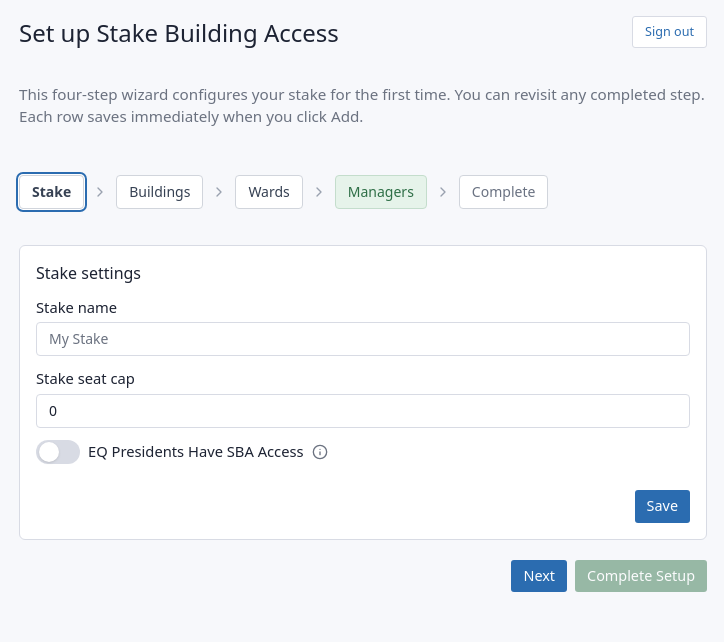
Test case: <BootstrapWizardPage /> › switches to step 2 when the Buildings tab is clicked
Click the tab with test id "wizard-step-tab-2": (160, 192) [116,175,203,209]
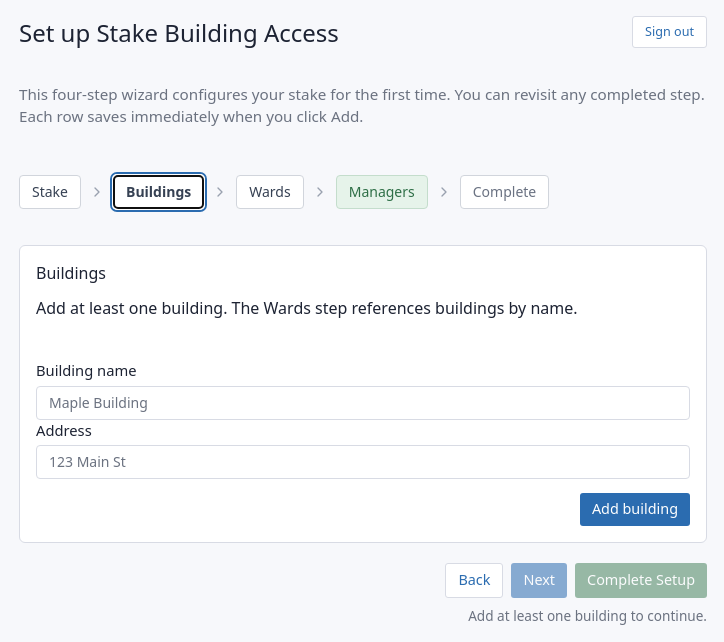
Check: the element with test id "wizard-step-2" is shown, box [19,245,707,543]
Check: the heading "Buildings" is shown, box [36,262,106,284]
